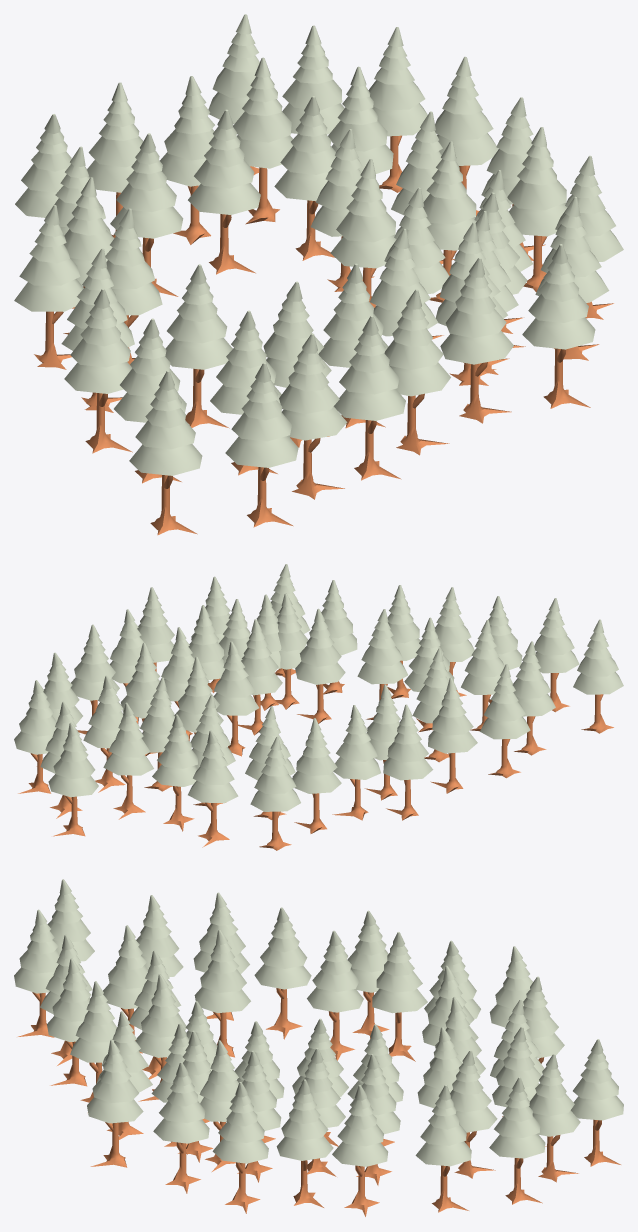
File: treesv2.fbx
3 views of the same model, one above another, from view 1: azimuth 30°, elevation 25°; view 2: azimuth 150°, elevation 25°; view 3: azimuth 270°, elevation 25° (orthographic). The views are drawn at different scales.
Parts seen in each view (by area): view 1: tree 1.027, tree 1.034, tree 1.035, tree 1.036, tree 1.039, tree 1.042, tree 1.037, tree 1.003, tree 1.033, tree 1.043, tree 1.026, tree 1.007 (+32 smaller); view 2: tree 1.024, tree 1.010, tree 1.001, tree 1.004, tree 1.003, tree 1.007, tree 1.043, tree 1.034, tree 1.041, tree 1.008, tree 1, tree 1.005 (+32 smaller); view 3: tree 1.042, tree 1.001, tree 1.018, tree 1.019, tree 1.020, tree 1.022, tree 1.017, tree 1.023, tree 1.002, tree 1.024, tree 1, tree 1.037 (+32 smaller).
Part boxes in pixels (<box>): tree 1.027: <box>440,257,513,423</box>; tree 1.034: <box>129,370,202,535</box>; tree 1.035: <box>225,362,298,527</box>; tree 1.036: <box>333,315,405,480</box>; tree 1.039: <box>188,109,260,274</box>; tree 1.042: <box>522,244,595,408</box>; tree 1.037: <box>165,264,232,428</box>; tree 1.003: <box>14,205,83,369</box>; tree 1.033: <box>279,333,347,499</box>; tree 1.043: <box>64,288,132,453</box>; tree 1.026: <box>384,289,450,455</box>; tree 1.007: <box>233,57,292,224</box>; tree 1.024: <box>48,722,98,836</box>; tree 1.010: <box>295,608,345,723</box>; tree 1.001: <box>428,677,477,793</box>; tree 1.004: <box>292,718,341,833</box>; tree 1.003: <box>383,704,433,820</box>; tree 1.007: <box>103,702,153,819</box>; tree 1.043: <box>480,664,530,778</box>; tree 1.034: <box>573,619,623,733</box>; tree 1.041: <box>250,736,300,850</box>; tree 1.008: <box>188,730,238,847</box>; tree 1: <box>332,705,380,820</box>; tree 1.005: <box>152,714,197,831</box>; tree 1.042: <box>87,1039,143,1167</box>; tree 1.001: <box>254,907,311,1039</box>; tree 1.018: <box>153,1062,209,1193</box>; tree 1.019: <box>212,1082,268,1213</box>; tree 1.020: <box>332,1085,388,1216</box>; tree 1.022: <box>415,1085,471,1212</box>; tree 1.017: <box>276,1079,333,1207</box>; tree 1.023: <box>489,1077,545,1204</box>; tree 1.002: <box>307,930,363,1060</box>; tree 1.024: <box>571,1039,623,1166</box>; tree 1: <box>372,932,427,1061</box>; tree 1.037: <box>194,929,250,1057</box>.
Bounding box in the file's own units: 128 × 31.85 × 144.
